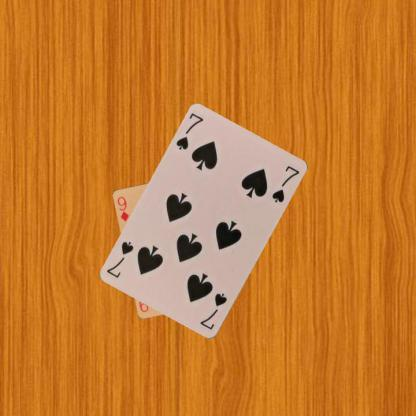7s: (173, 110, 205, 152), (197, 290, 228, 332)
9d: (115, 194, 130, 223)
